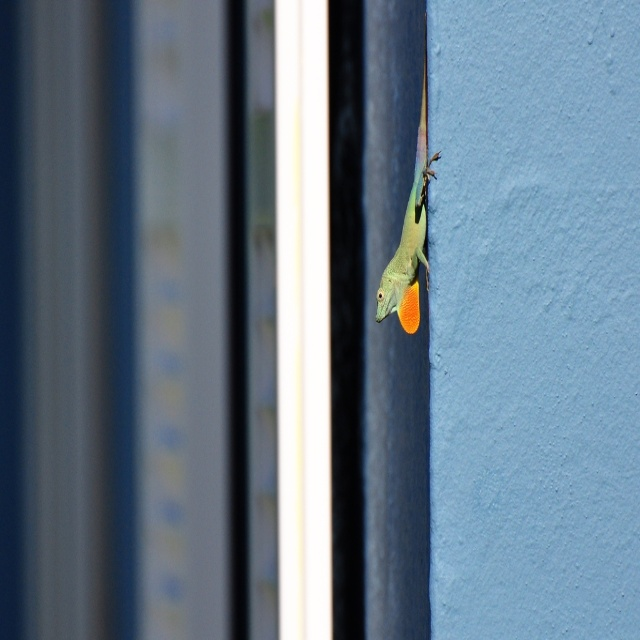Lizard: (371, 115, 451, 367)
